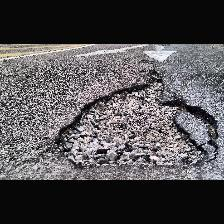pothole: (53, 74, 219, 168)
